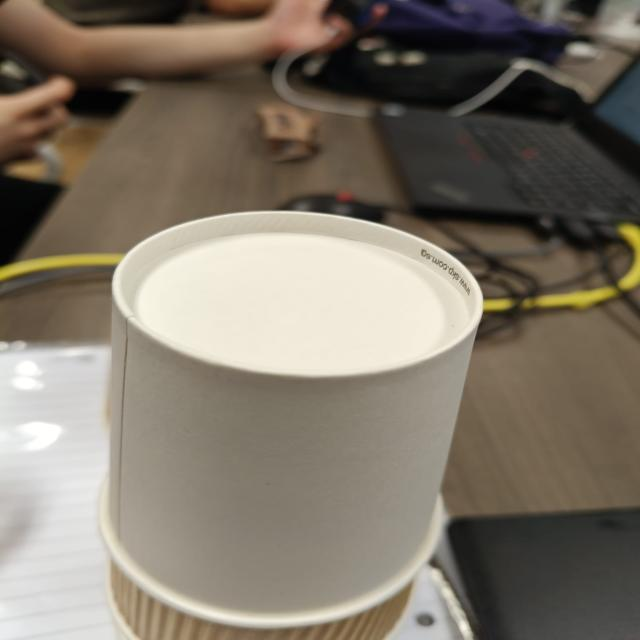Browncup: (63, 534, 447, 640)
Whitecup: (111, 222, 453, 599)
